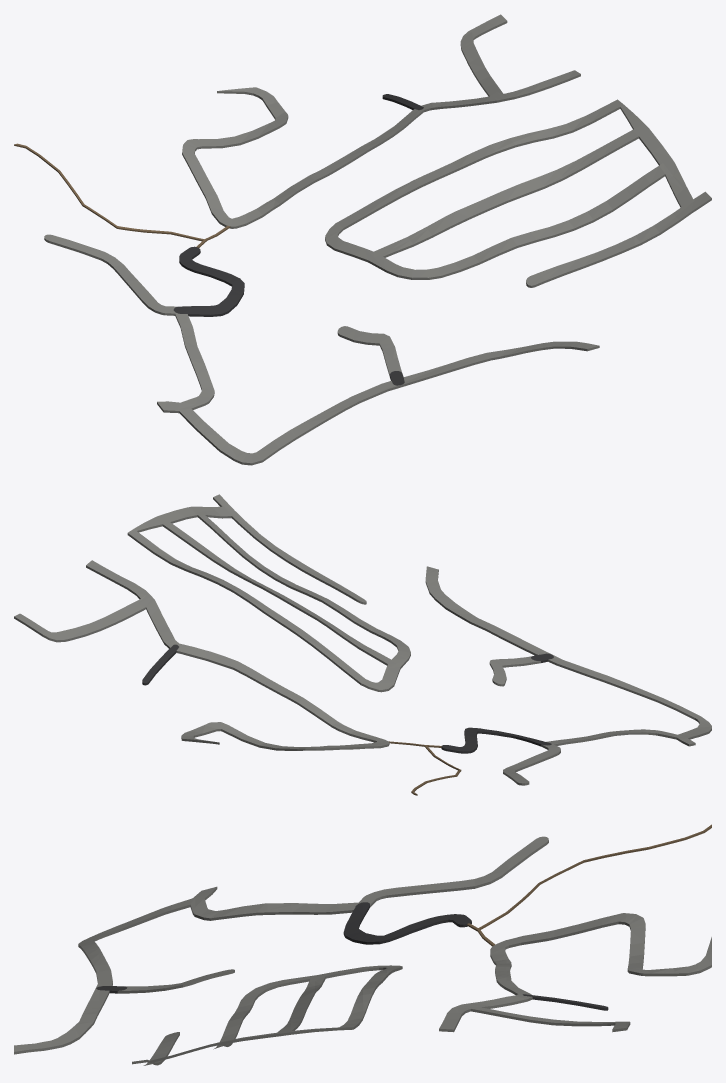
3 views of the same model, one above another, from view 1: azimuth 30°, elevation 25°; view 2: azimuth 150°, elevation 25°; view 3: azimuth 270°, elevation 25° (orthographic). The views are drawn at different scales.
Bounding box in the file's own units: 293 × 88.56 × 292.
